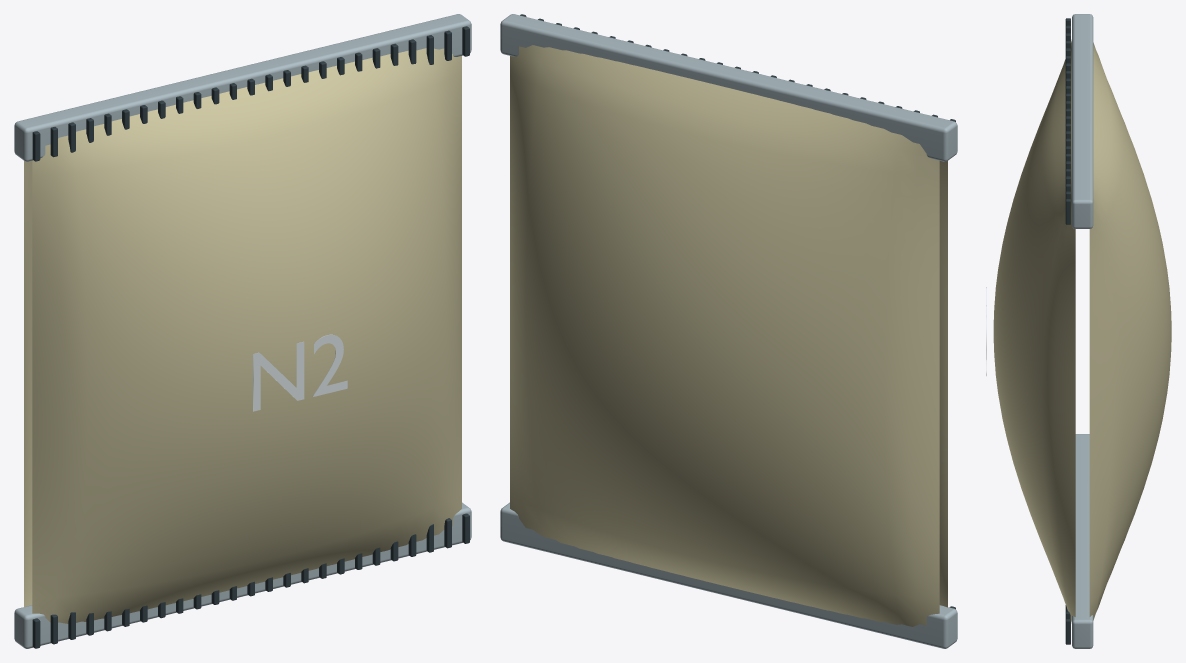
File: pouch.glb
The picture shows the model from 3 angles, left to right: view 1: azimuth 30°, elevation 25°; view 2: azimuth 150°, elevation 25°; view 3: azimuth 270°, elevation 25°; orthographic projection. The views are drawn at different scales.
Visible parts, largest first — view 1: Sealed food pouch, Crimped seam.001, Crimped seam, Food packaging; view 2: Sealed food pouch, Crimped seam.001, Crimped seam; view 3: Sealed food pouch, Crimped seam.001, Crimped seam.
Boxes of the visible parts, x1,y1,x2,y2 form: Sealed food pouch: [24, 48, 461, 623]; Crimped seam.001: [14, 14, 471, 161]; Crimped seam: [14, 502, 471, 648]; Food packaging: [253, 334, 347, 411]; Sealed food pouch: [510, 45, 947, 626]; Crimped seam.001: [500, 14, 957, 161]; Crimped seam: [500, 502, 957, 648]; Sealed food pouch: [993, 39, 1171, 623]; Crimped seam.001: [1072, 14, 1093, 228]; Crimped seam: [1072, 434, 1093, 648].
Bounding box in the file's own units: 0.25 × 0.278 × 0.1041.
